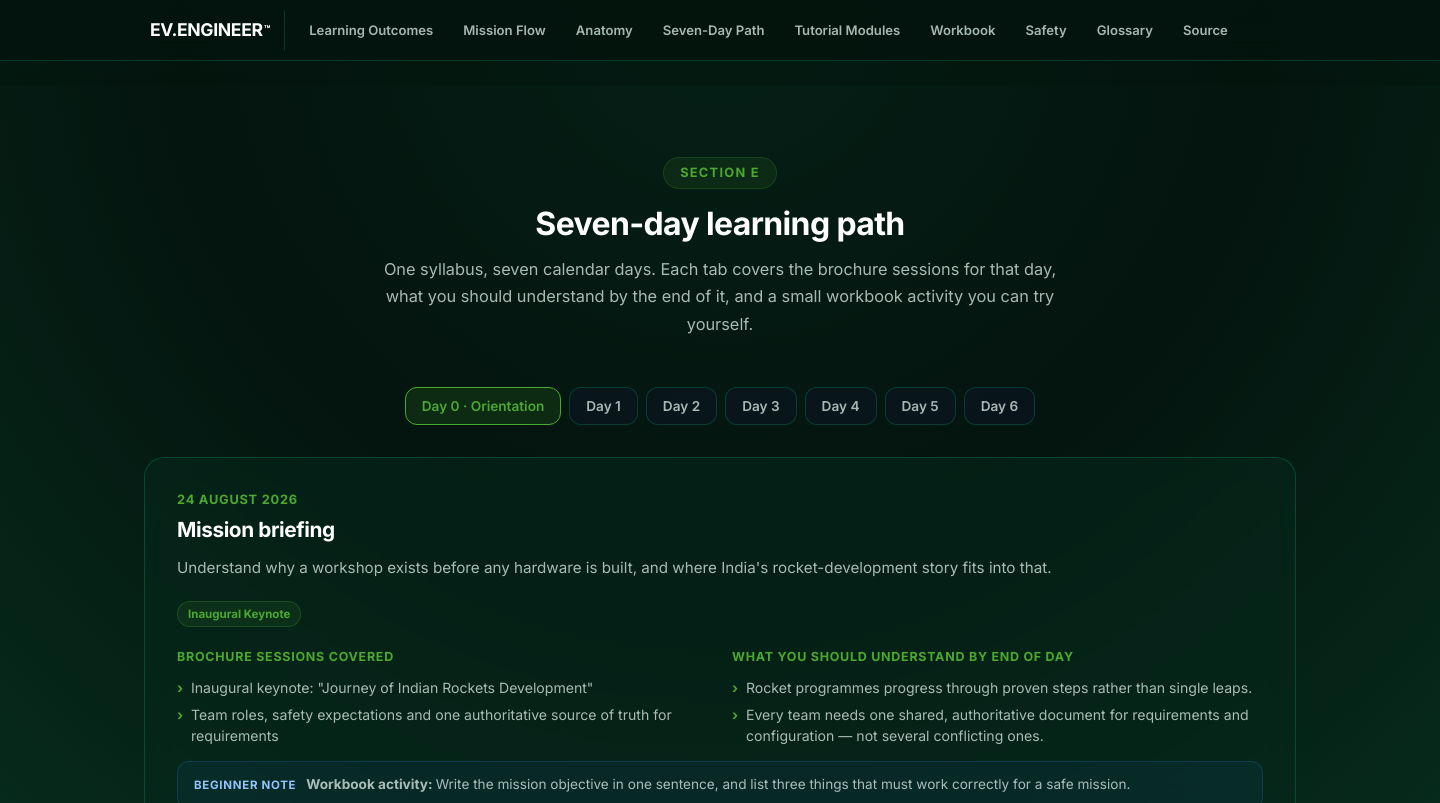
it: Model Rocketry learning guide page › keeps quiz answers inside native, keyboard-operable details/summary disclosures
(page scrolled)
Step 1. Click the tab "Day 5" → (920, 406), box [884,387,956,425]
(page scrolled)
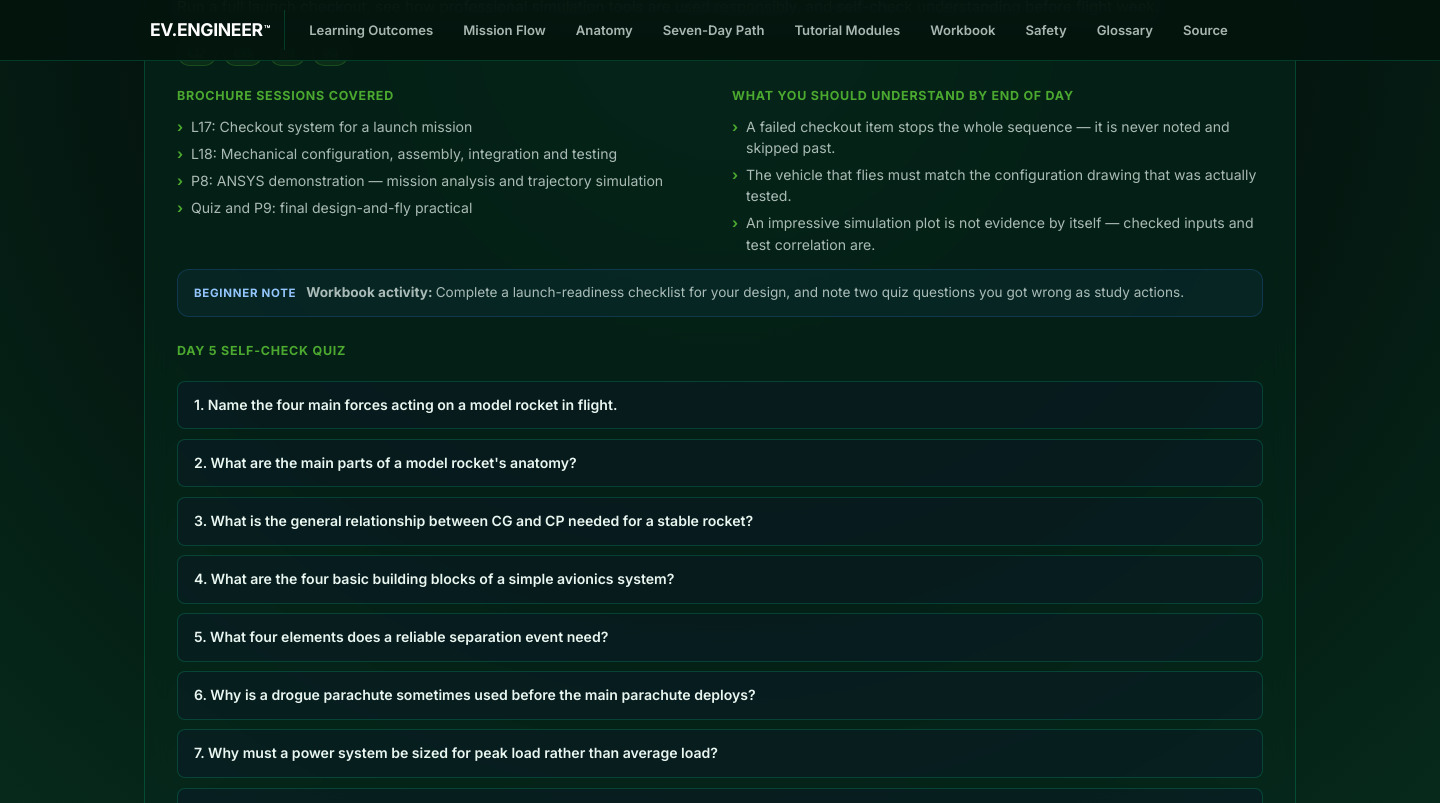
Check: the text "Name the four main forces acting on a model rocket in flight." is shown, box [208,396,617,413]
Step 2. Click the heading "Name the four main forces acting on a model rocket in flight." → (406, 404), box [194,396,617,413]
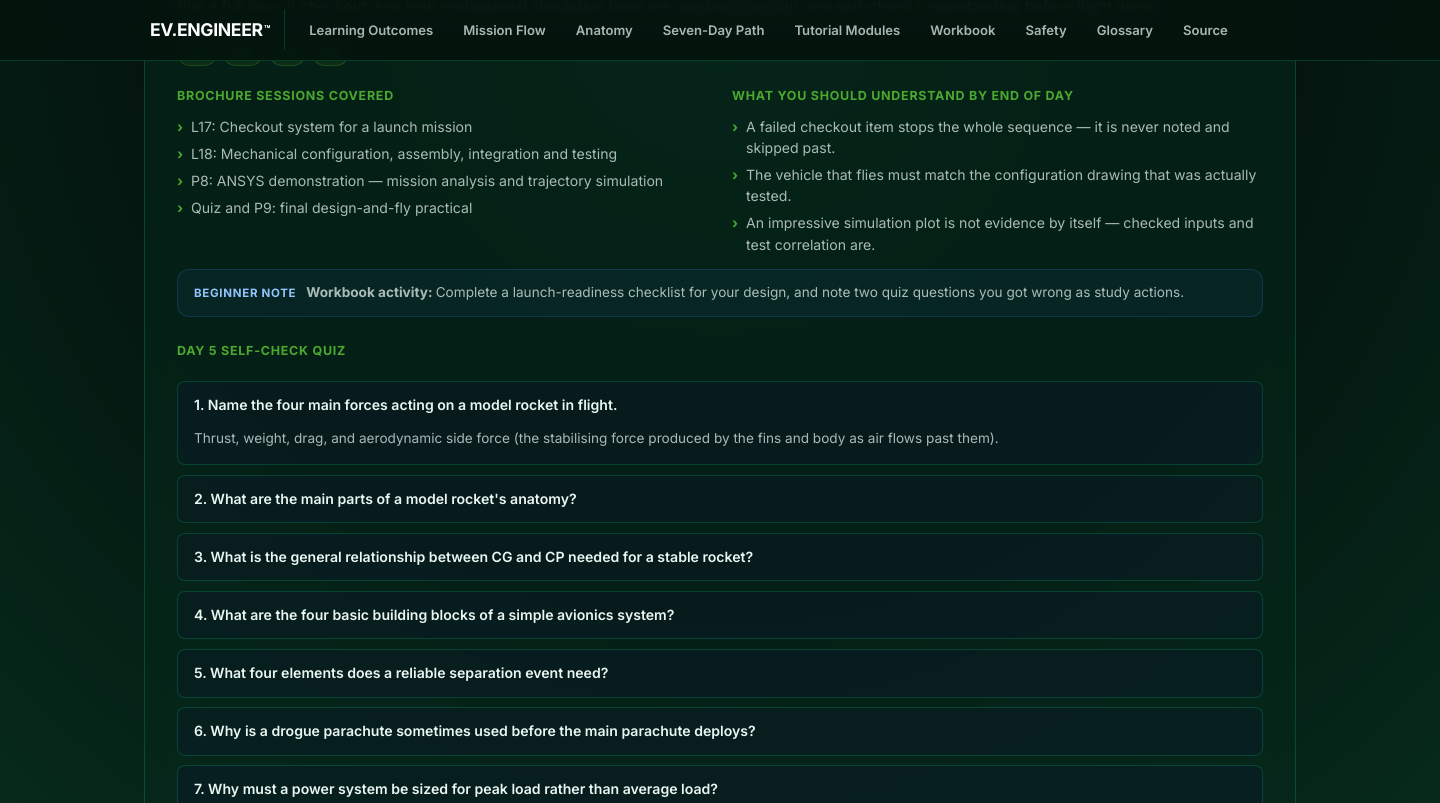
Check: the text "Thrust, weight, drag" is shown, box [194,430,999,446]
